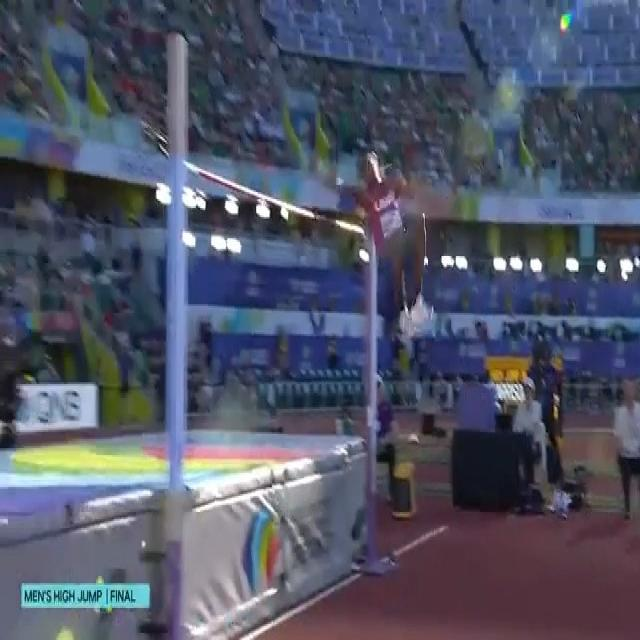land: (337, 142, 432, 340)
